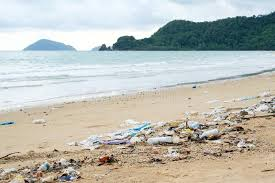garbage: (128, 122, 269, 161), (87, 134, 191, 162), (190, 110, 265, 148), (4, 164, 80, 183), (238, 95, 275, 113)
